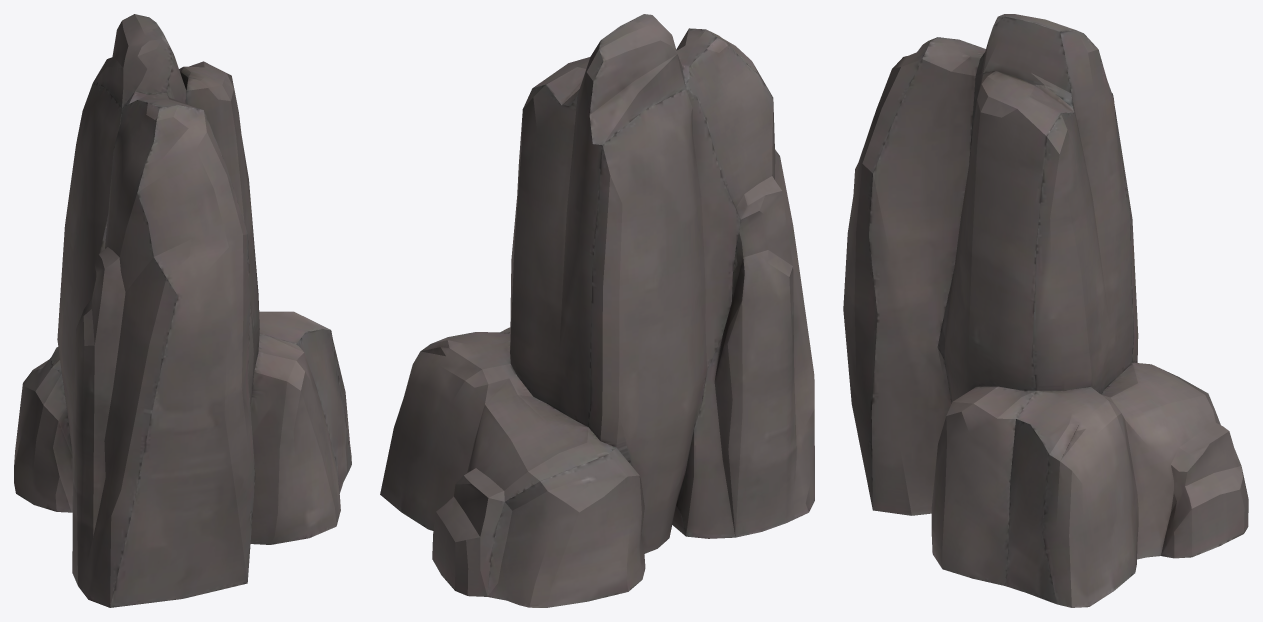
3 views of the same model, side by side, from view 1: azimuth 30°, elevation 25°; view 2: azimuth 150°, elevation 25°; view 3: azimuth 270°, elevation 25° (orthographic). The views are drawn at different scales.
Visible parts, largest first — view 1: body0_model0_lod0_mesh0; view 2: body0_model0_lod0_mesh0; view 3: body0_model0_lod0_mesh0.
Part boxes in pixels (box(x1,y1,x2,y2)): body0_model0_lod0_mesh0: box(14, 14, 351, 607); body0_model0_lod0_mesh0: box(380, 14, 814, 607); body0_model0_lod0_mesh0: box(843, 14, 1248, 607).
Bounding box in the file's own units: 270 × 379 × 286.
1 material, 1 textured.
